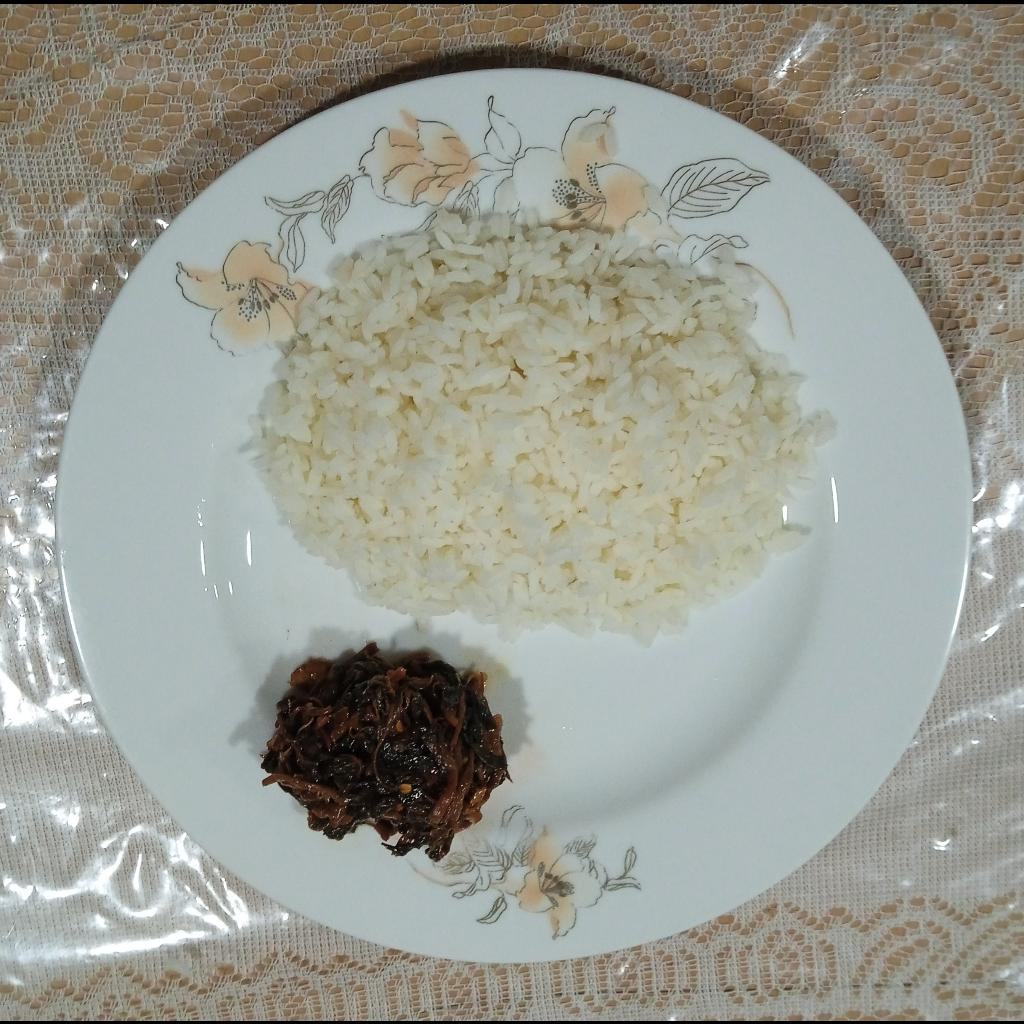rice: (243, 205, 835, 649)
shak: (255, 642, 511, 866)
